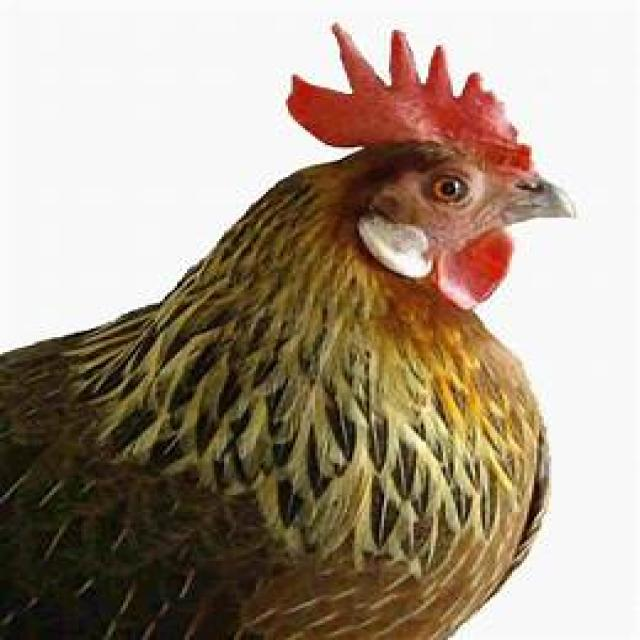hen: (3, 28, 568, 639)
